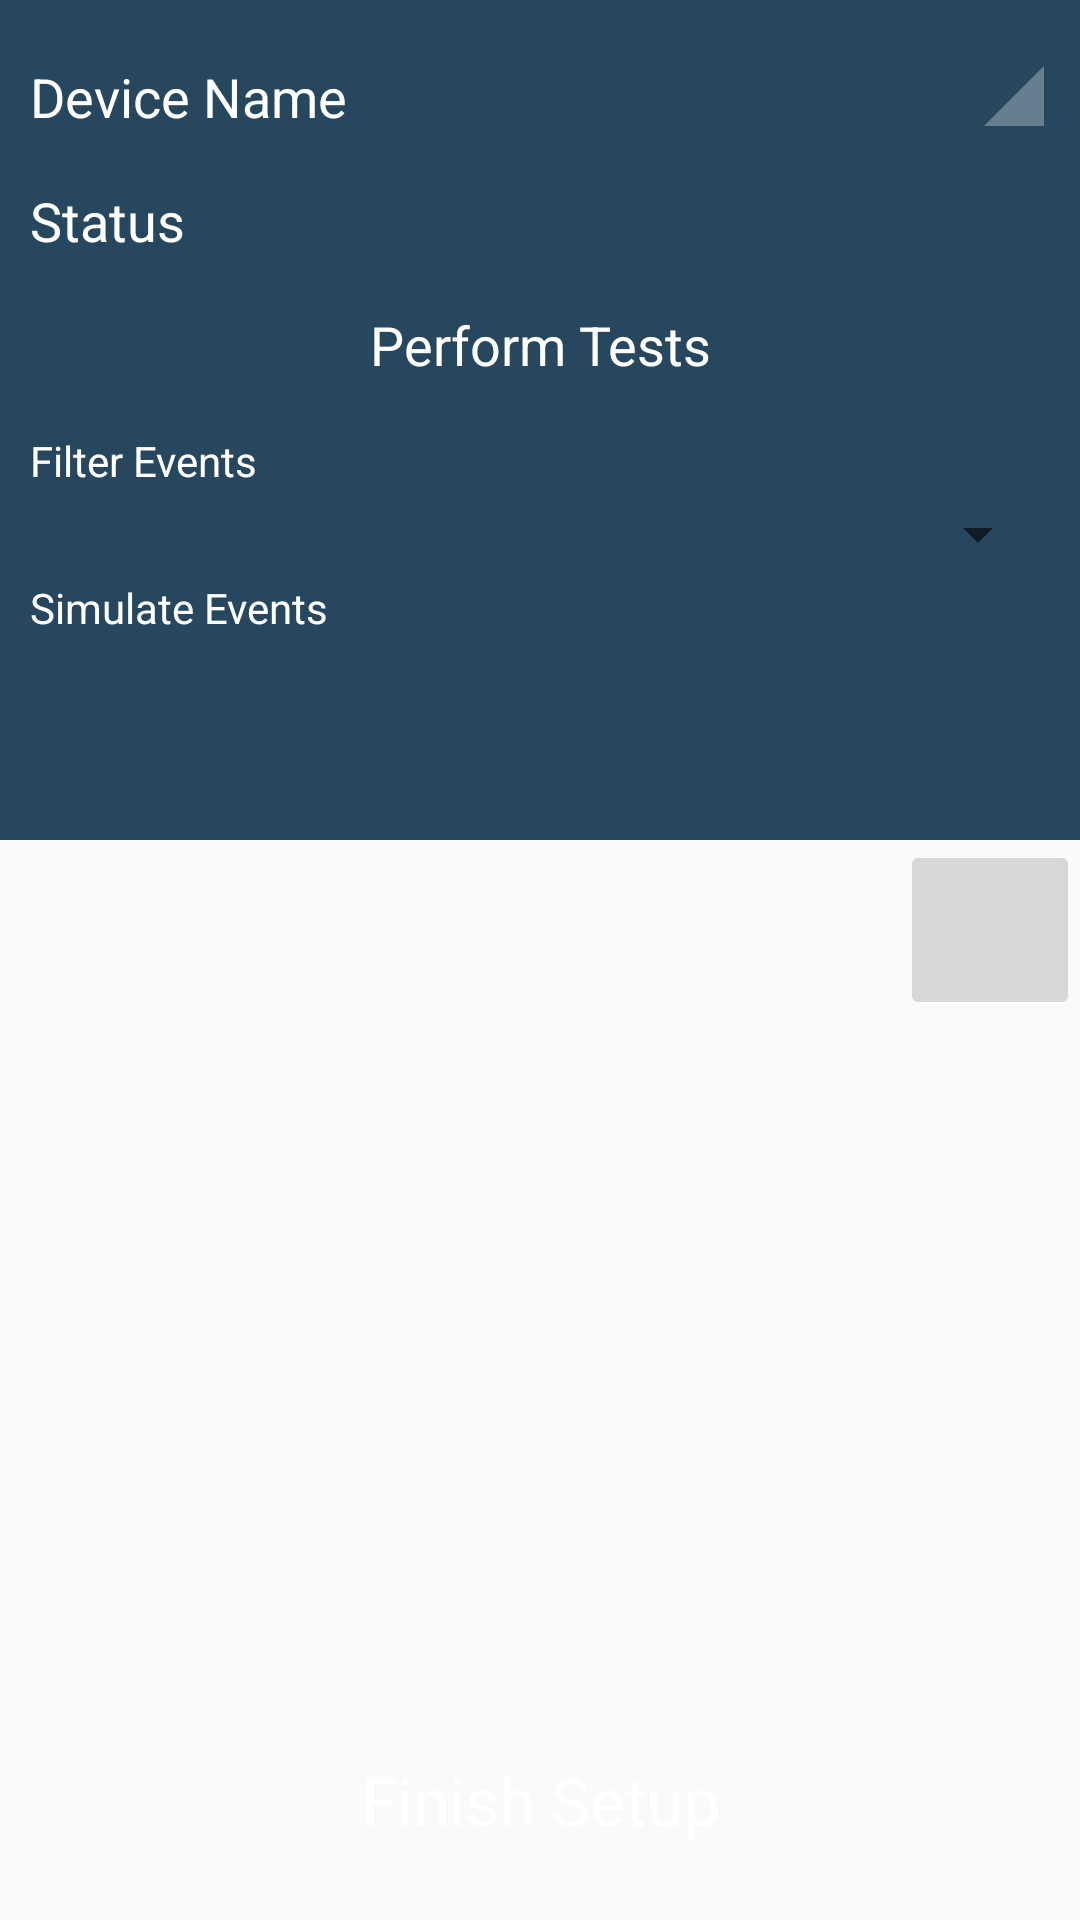

Locate icon controls on the screen. Image size 1080*1920, boxes as (x1, y1, x2, y2).
signal cellular bar: (984, 66, 1044, 126)
